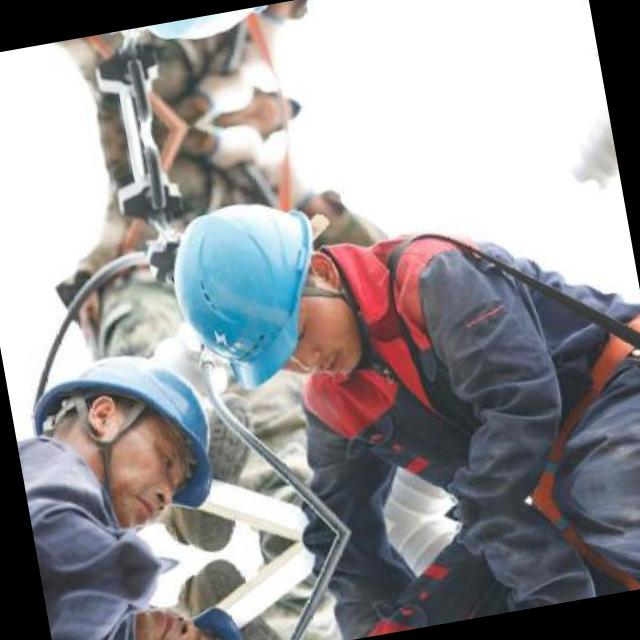helmet: (154, 178, 352, 401), (35, 322, 236, 528), (82, 600, 264, 640)
